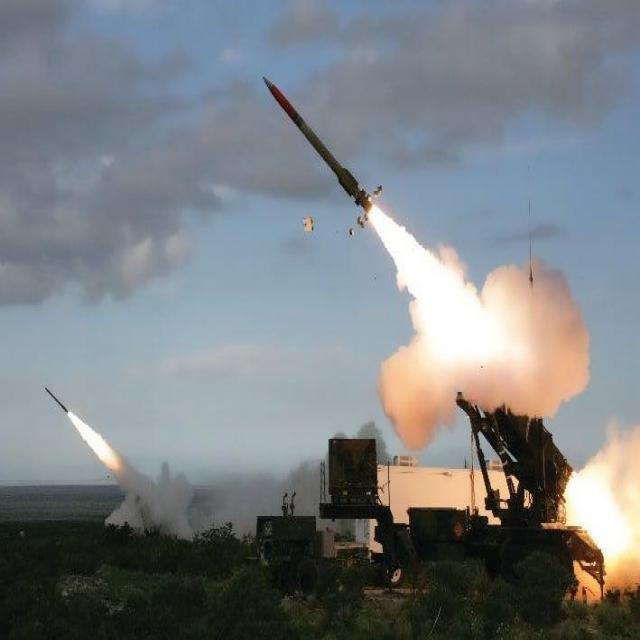rocket: (265, 69, 456, 353)
